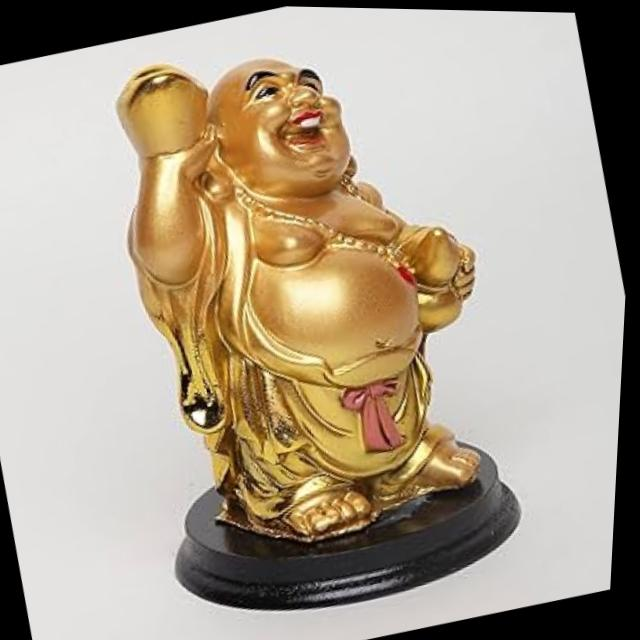Smiling Buddha: (75, 5, 510, 549)
